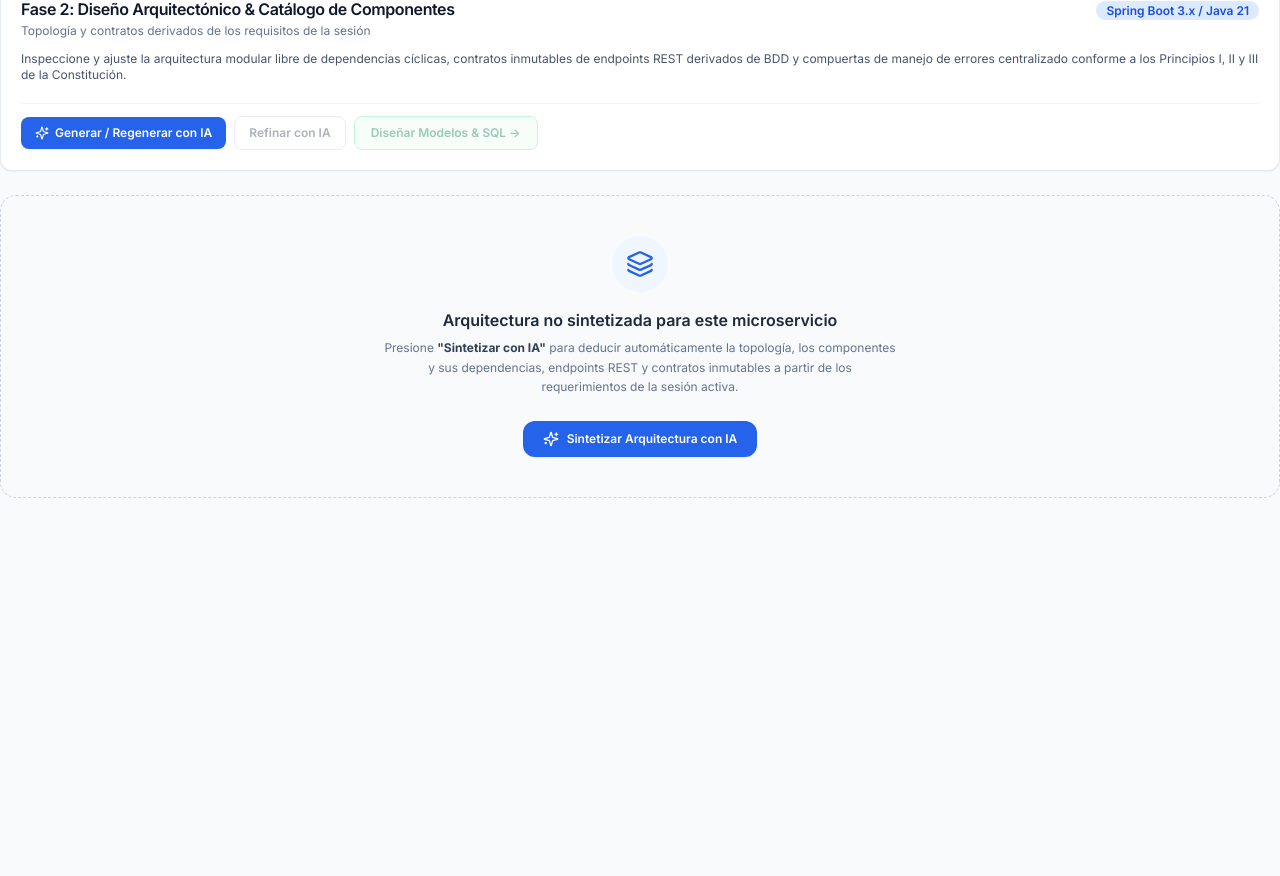
Test: Views: ArchitectureView & DomainModelsView › ArchitectureView › synthesizes 4-layer architecture with IA button click
Expected: the heading "Arquitectura no sintetizada para este microservicio" is shown, [443,310,837,330]
Click the button "Sintetizar Arquitectura con IA" at (640, 438), box [523,420,757,456]
(page scrolled)
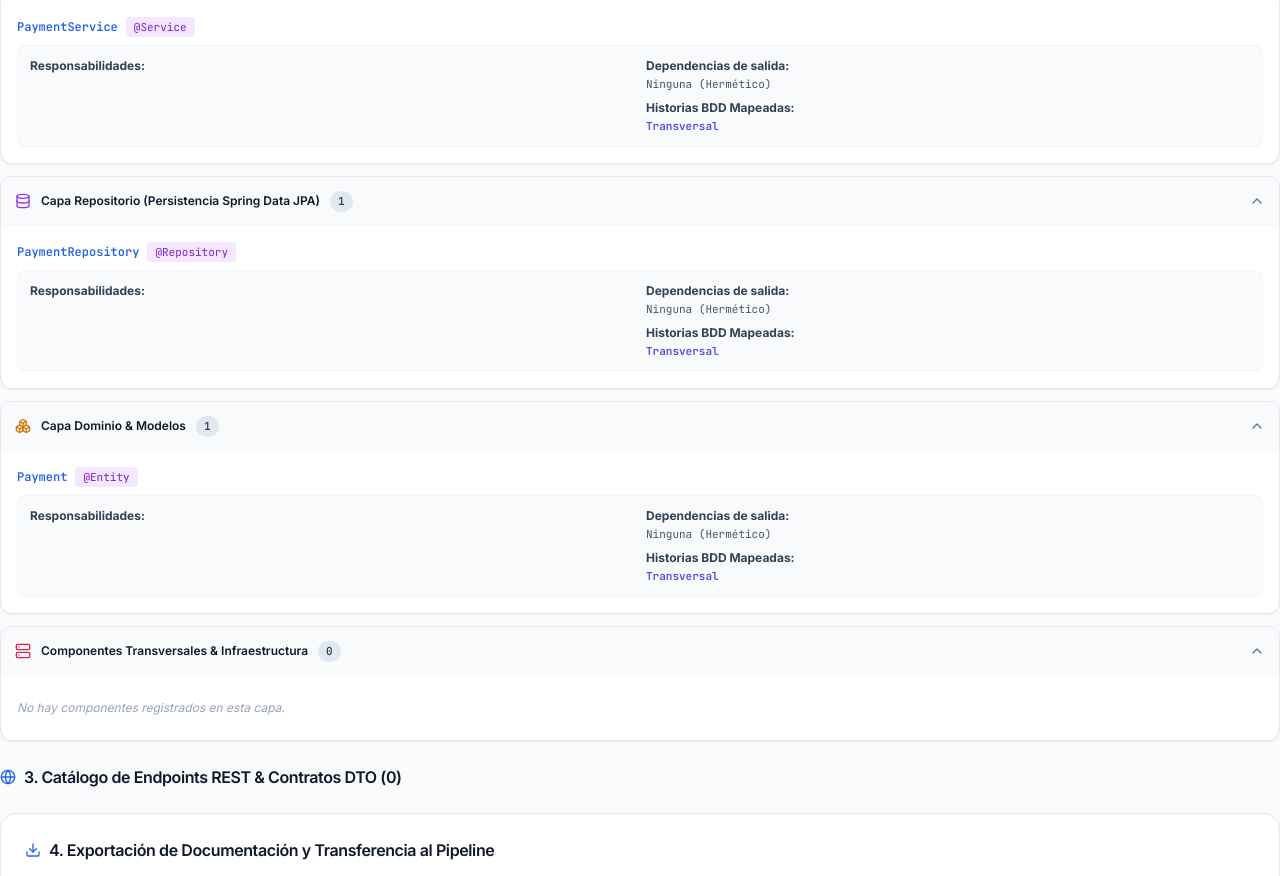
Expected: the text "Capa Repositorio (Persistencia Spring Data JPA)" is shown, [41,193,320,209]
Expected: the text "Capa Dominio & Modelos" is shown, [41,418,186,434]
